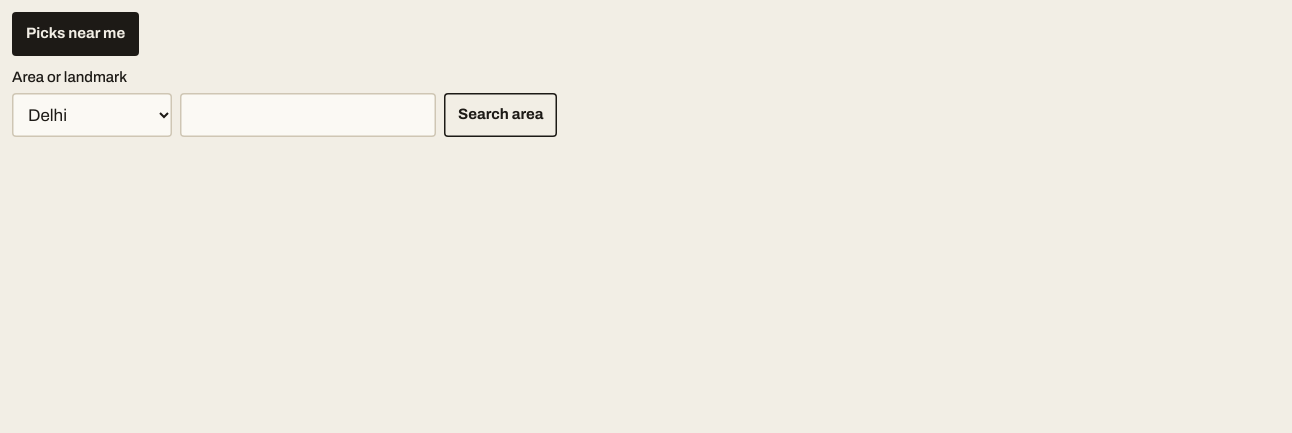
Test: HomeNearMe › offers geocode suggestions and uses the chosen point
The width and height of the screenshot is (1292, 433).
In the search field labelled "Area or landmark": (308, 115) [180,93,436,137], type "Chandni Chowk"
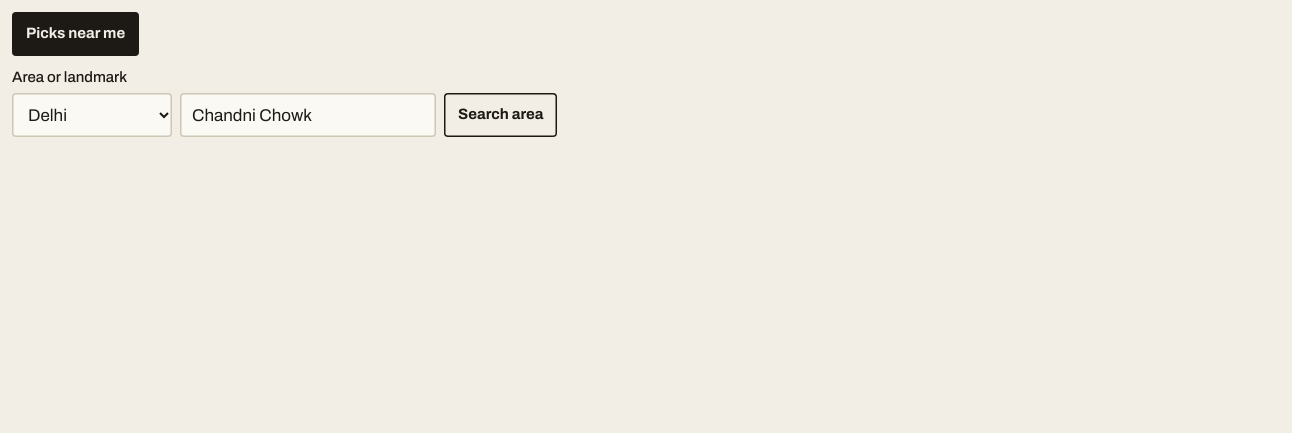
Click the button "Search area": (501, 115) [444,93,558,137]
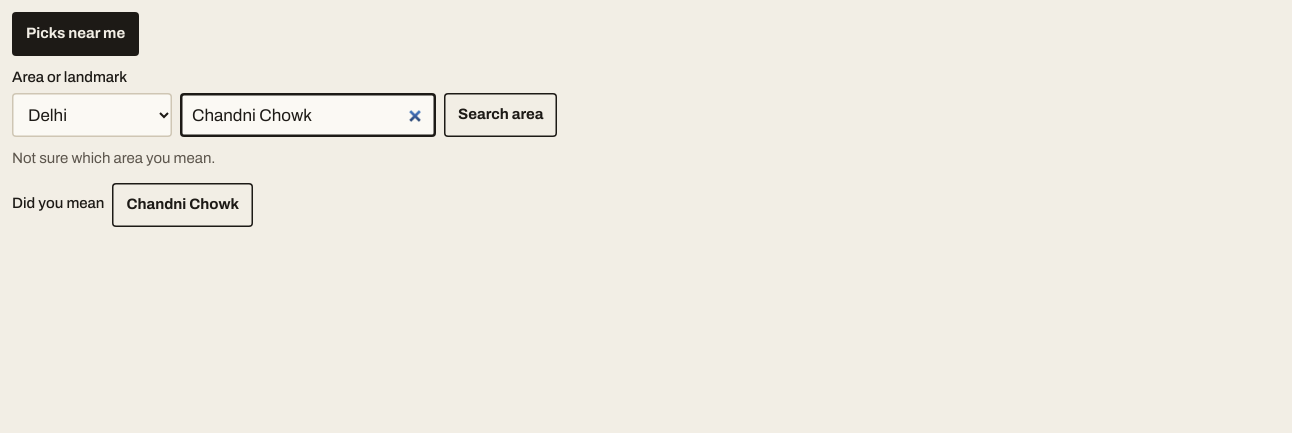
Click the button "Chandni Chowk": (183, 205) [112,183,253,227]
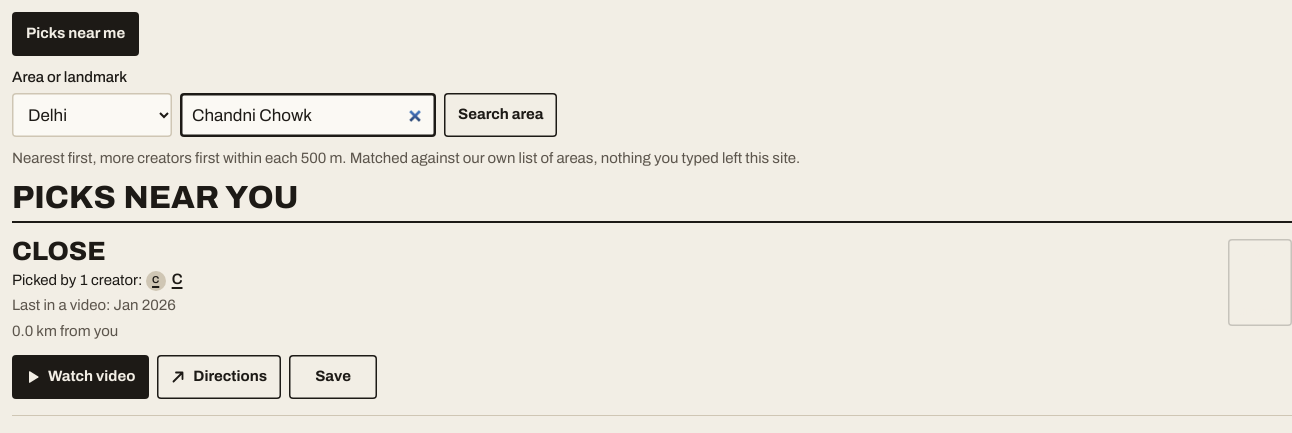
Expected: the link "close" is shown, [12,237,106,266]
